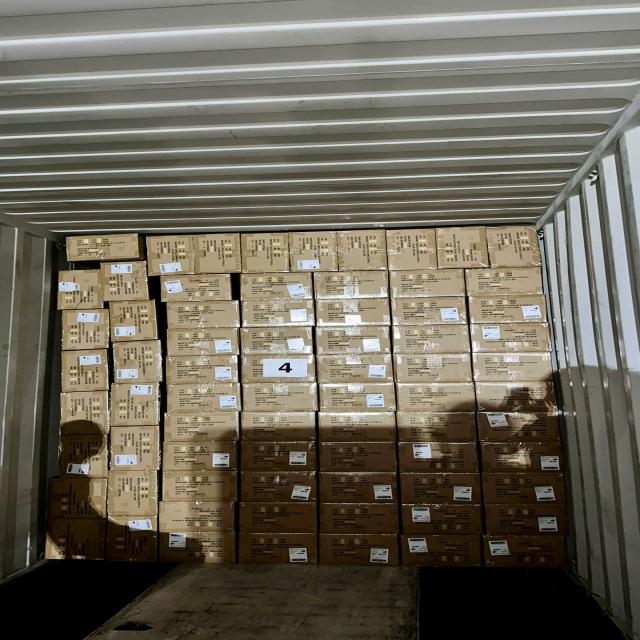Carton: (240, 354, 317, 412), (60, 393, 110, 480), (316, 470, 402, 506), (235, 469, 322, 504), (482, 503, 569, 538), (478, 441, 567, 475), (476, 410, 564, 444), (398, 472, 486, 506), (316, 502, 404, 536), (398, 503, 486, 537), (481, 472, 568, 506), (397, 440, 483, 474), (483, 538, 568, 572), (316, 440, 401, 474), (157, 530, 239, 565), (236, 500, 320, 534), (472, 380, 560, 412), (394, 410, 479, 443), (402, 537, 482, 572), (161, 381, 243, 415), (484, 224, 544, 270), (392, 381, 478, 413), (468, 322, 553, 354), (314, 352, 396, 385), (158, 500, 237, 534), (239, 534, 318, 568), (316, 380, 399, 412), (392, 323, 474, 355), (238, 440, 320, 472), (469, 352, 556, 382), (318, 537, 399, 569), (390, 295, 471, 327), (316, 411, 397, 443), (45, 522, 105, 565), (162, 353, 242, 385), (161, 411, 243, 442), (164, 325, 240, 358), (464, 266, 542, 298), (240, 410, 318, 442), (465, 294, 548, 324), (313, 325, 393, 356), (393, 352, 473, 383), (160, 441, 240, 472), (311, 270, 390, 301), (313, 297, 392, 328), (108, 519, 161, 565), (48, 478, 106, 520), (388, 268, 468, 298), (287, 230, 341, 274), (336, 228, 390, 272), (57, 433, 107, 480), (238, 271, 316, 301), (112, 425, 164, 470), (108, 471, 161, 515), (165, 300, 242, 330), (165, 473, 239, 504), (158, 273, 234, 303), (112, 385, 165, 428), (64, 233, 142, 262), (239, 299, 316, 328), (439, 224, 490, 267), (113, 341, 164, 383), (240, 328, 314, 356), (62, 349, 110, 392), (111, 303, 160, 345), (60, 312, 109, 354), (388, 227, 438, 268), (59, 394, 108, 435), (150, 233, 197, 275), (242, 234, 290, 275), (59, 269, 104, 310), (105, 263, 150, 304), (196, 235, 240, 276)
